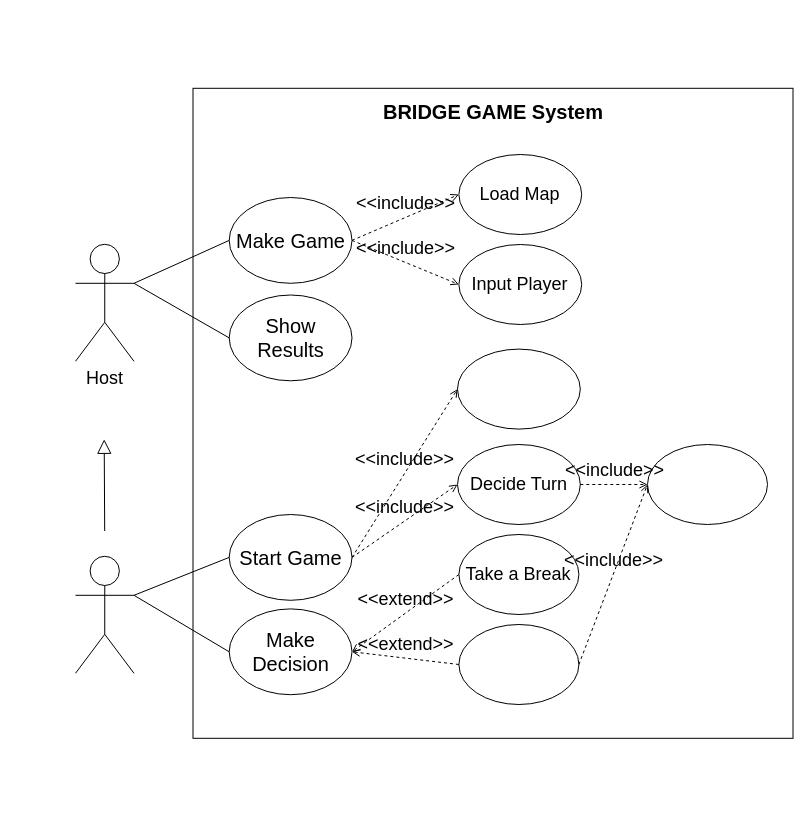
Image size: 810x821. Some labels were removed from this diagram. The shapes that lost their labels are listed below. From the top down, each one's centre as x and y in pixels, then its label:
(x=518, y=388): Make Name
(x=707, y=484): Roll Dice
(x=104, y=614): Player
(x=518, y=664): Move
